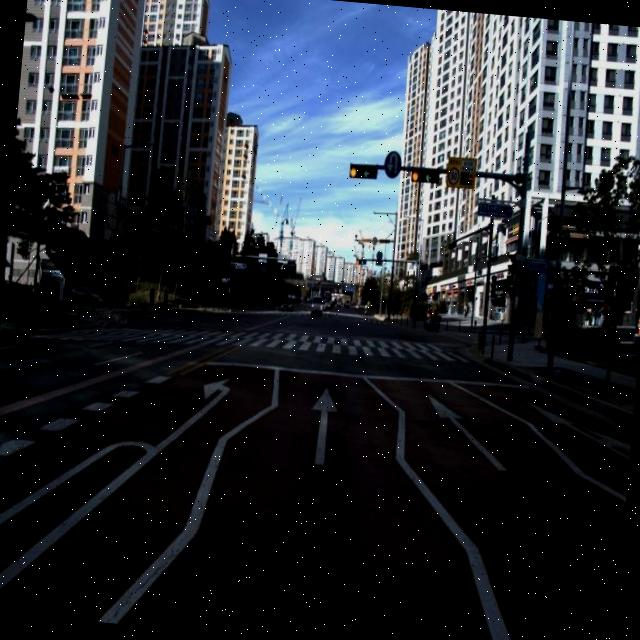crosswalk: (31, 324, 470, 362)
